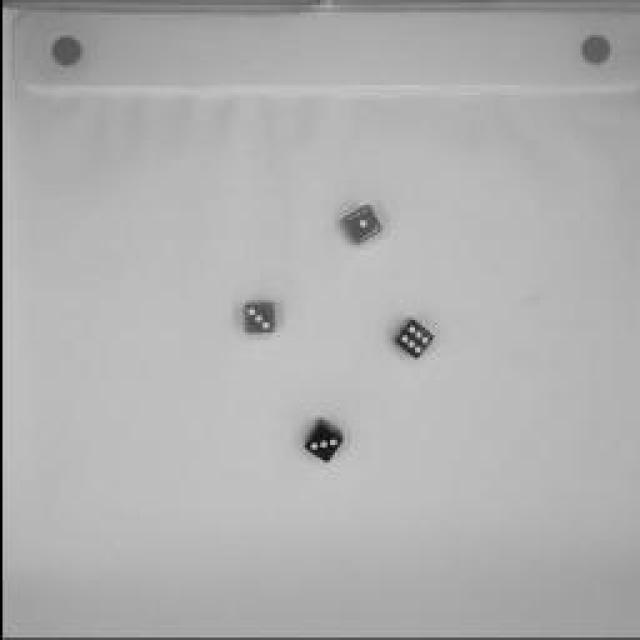dice_1: (333, 200, 385, 250)
dice_3: (298, 416, 348, 469), (234, 294, 281, 341)
dice_6: (387, 315, 435, 365)
